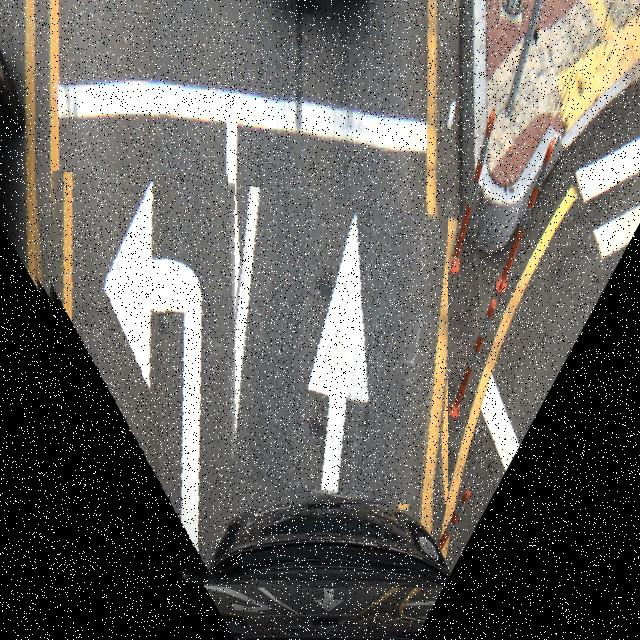forward: (211, 194, 448, 504)
left: (31, 174, 228, 582)
